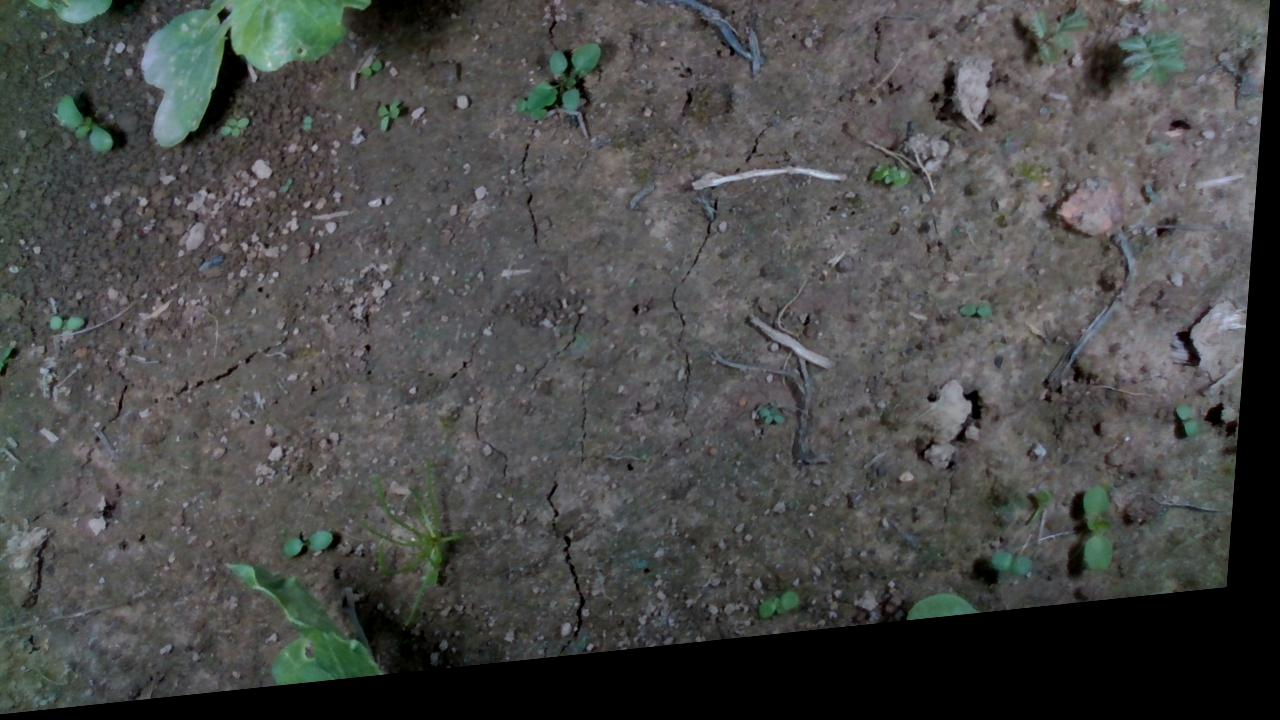weed: (49, 90, 122, 160), (219, 119, 252, 145)
